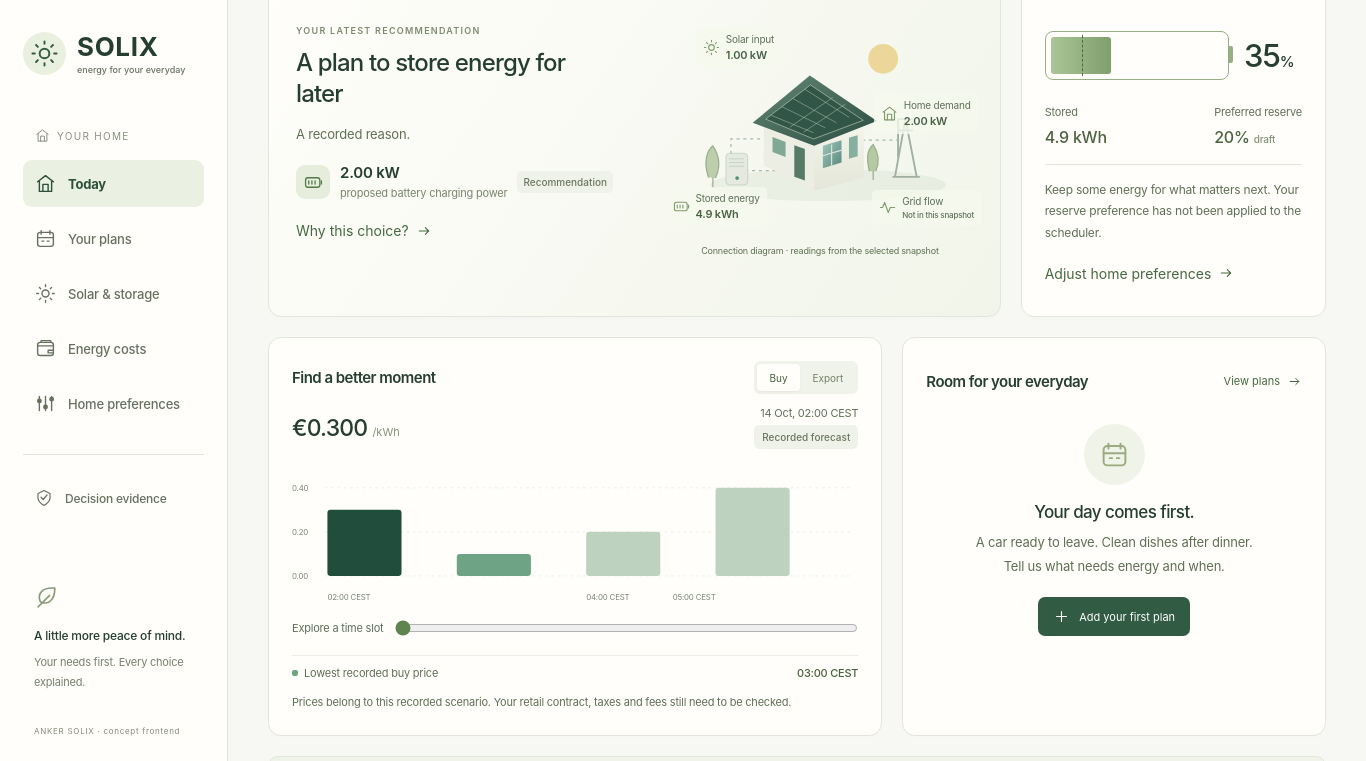
Test: Household-first experience › treats negative export prices as a cost, not an import subsidy
(page scrolled)
Expected: the text "A recorded reason." is shown, 296,126 -> 410,142
Click the button "Export". click: [828, 378]
box: 800,364 -> 855,391
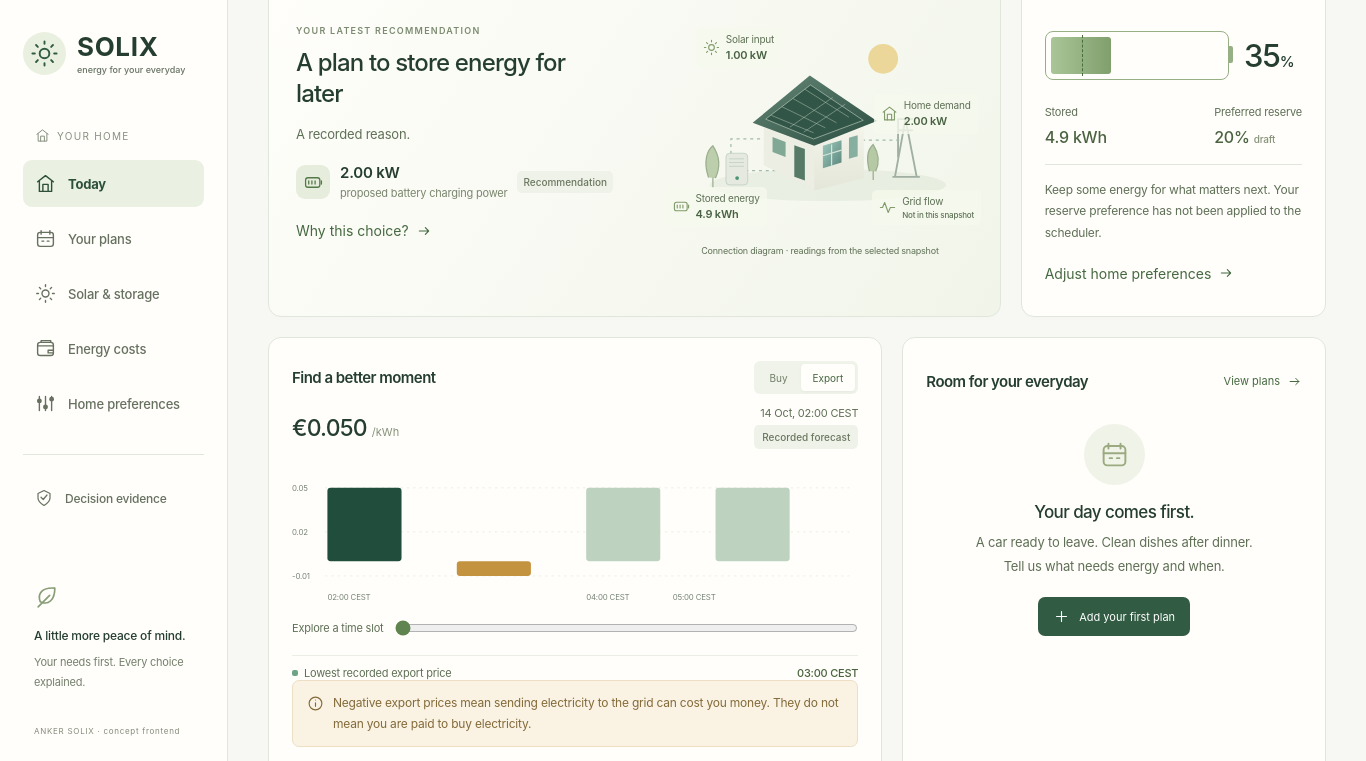
Expected: the text "They do not mean you are paid to buy electricity" is shown, 333,696 -> 838,731
